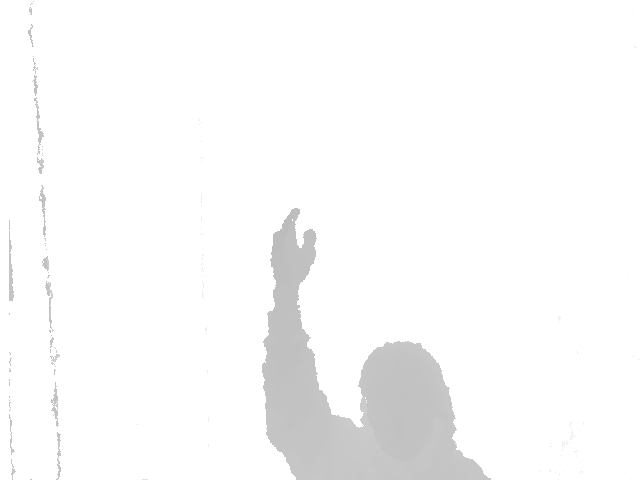hand: (268, 204, 318, 296)
head: (356, 340, 456, 462)
person: (263, 203, 484, 480)
